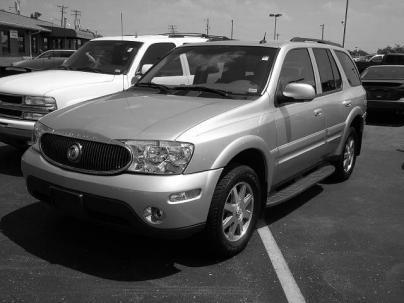car: (20, 39, 369, 259)
